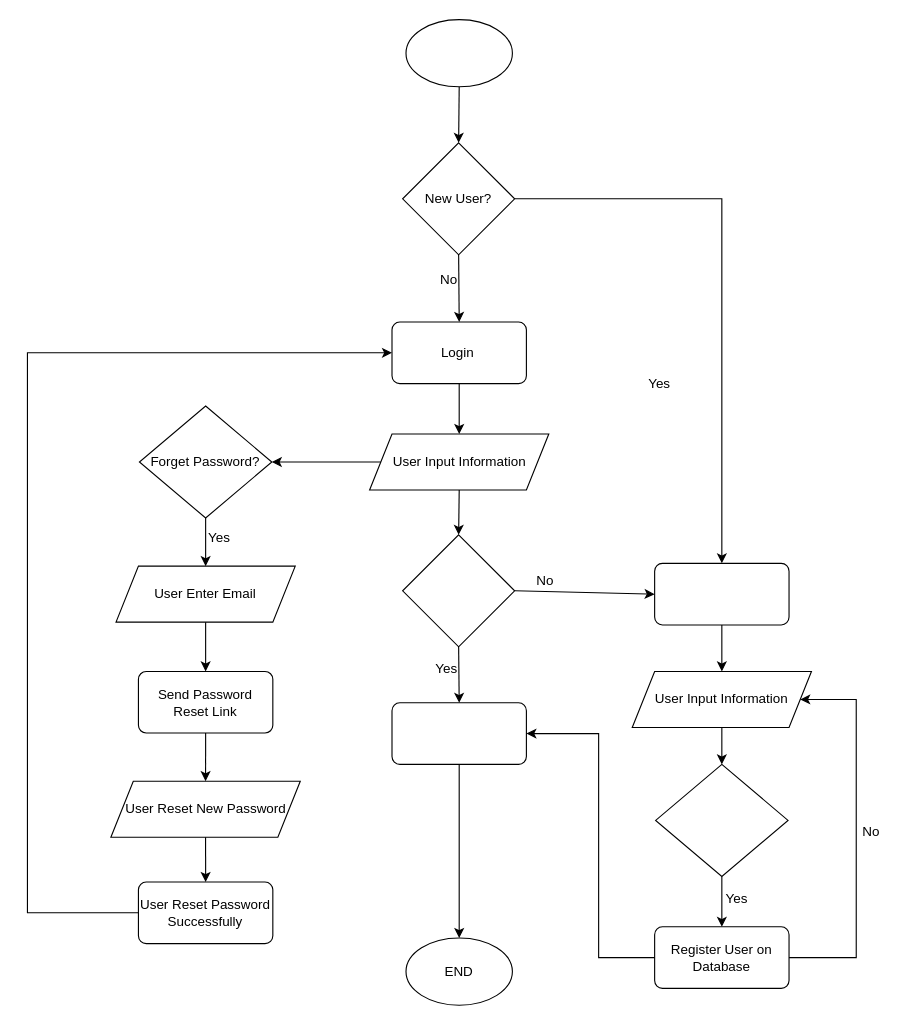
Image size: 913x1025. Some labels were removed from this diagram. The centre of each missing label's shape, as x and y in pixels:
Account exists?: (x=458, y=590)
All Information Valid?: (x=721, y=819)
Register: (x=721, y=593)
START: (x=458, y=52)
User Login account: (x=458, y=733)
